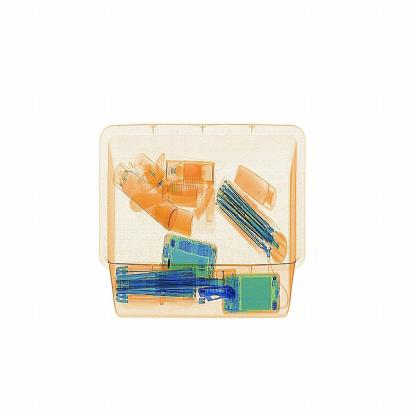knife: (194, 280, 247, 306)
